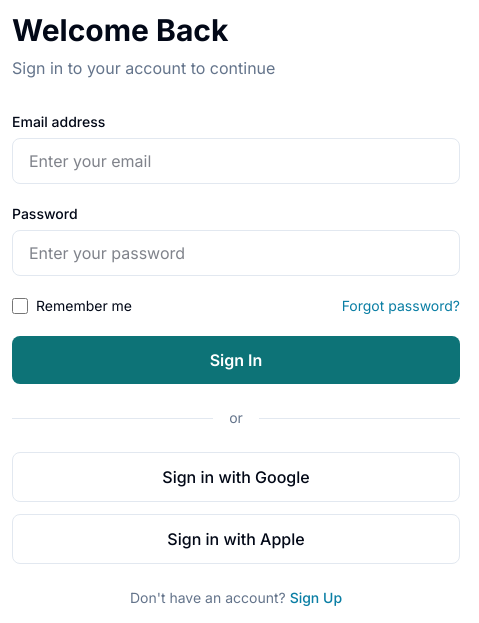
it: SignInForm › shows the loading state when the form is submitting
Type "user@example.com" into the field labelled "Email address" at (236, 161), box [12,138,460,184]
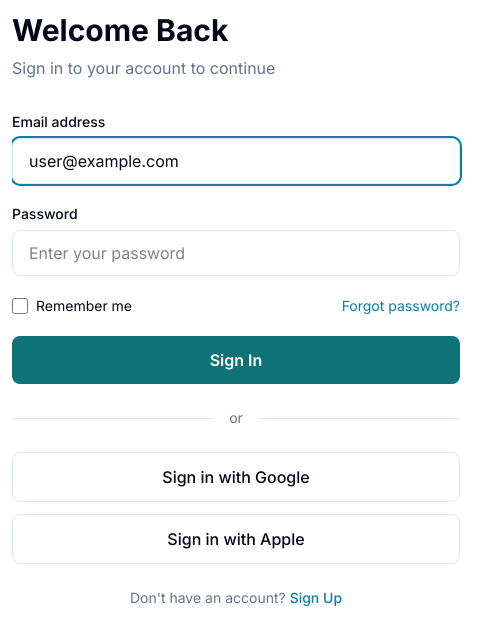
Type "password123" into the password field labelled "Password" at (236, 253), box [12,230,460,276]
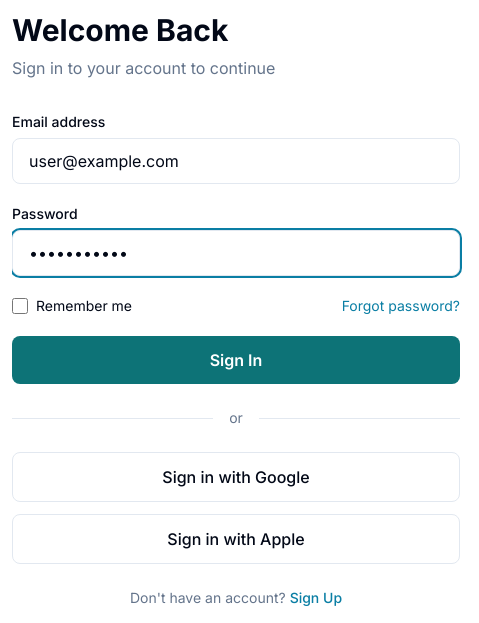
Click the button "Sign In" at (236, 360), box [12,336,460,384]
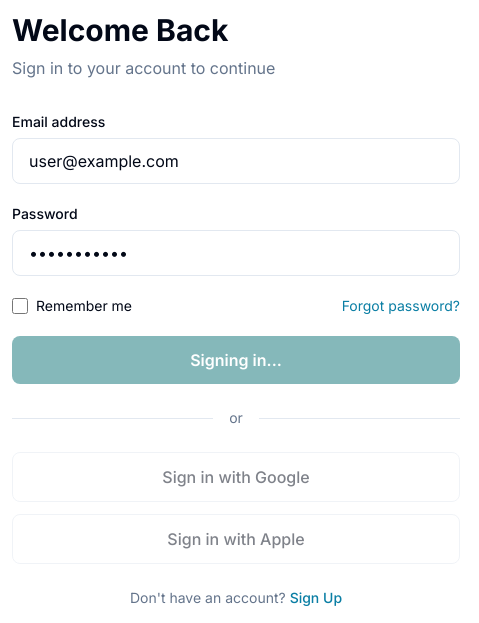
Expected: the button "Signing in..." is disabled, [12,336,460,384]
